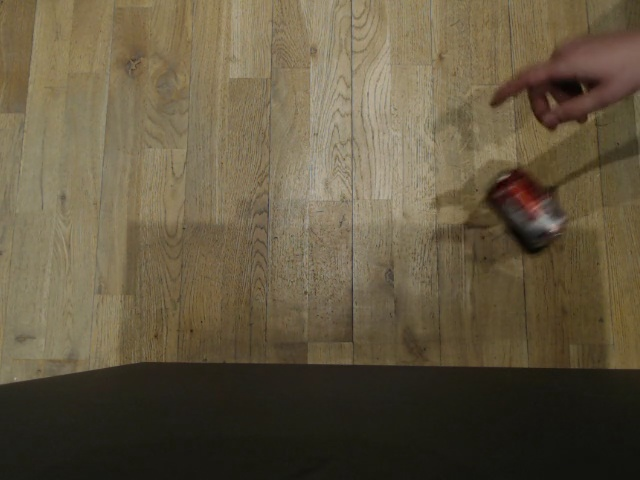coke: (489, 169, 563, 249)
